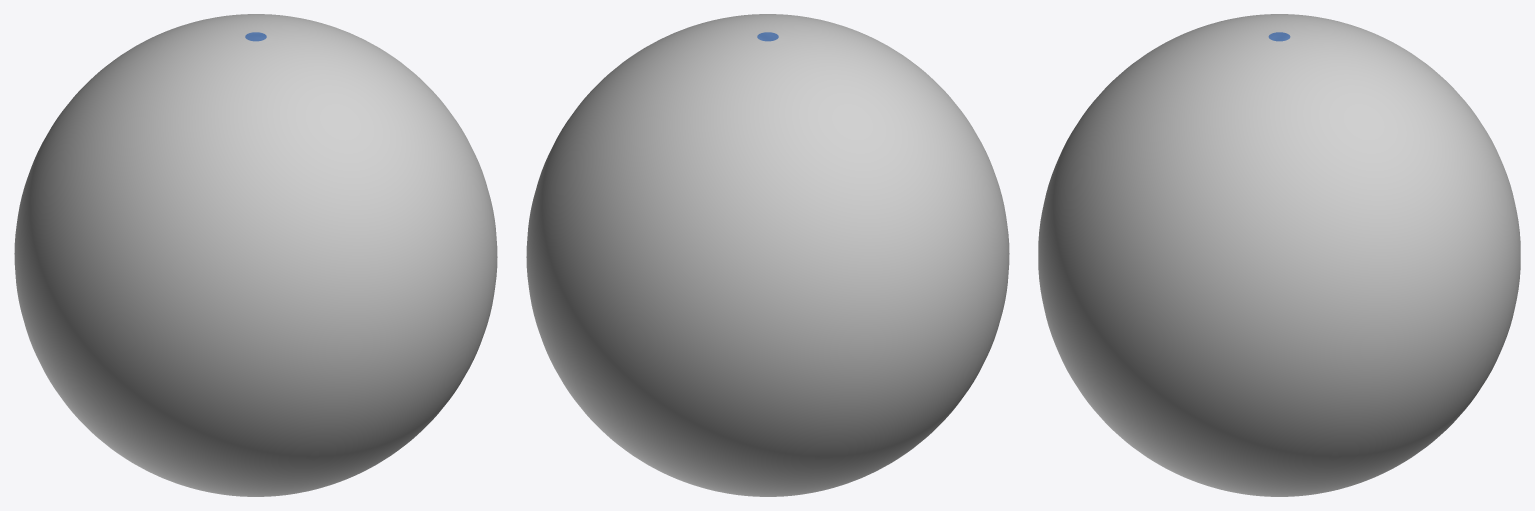
Rendered from skybox.obj.
3 renders of one model, left to right at view 1: azimuth 30°, elevation 25°; view 2: azimuth 150°, elevation 25°; view 3: azimuth 270°, elevation 25°, orthographic.
Visible parts, largest first — view 1: Sphere_Sphere.003; view 2: Sphere_Sphere.003; view 3: Sphere_Sphere.003.
Boxes of the visible parts, x1=… form: Sphere_Sphere.003: x1=14, y1=14, x2=497, y2=496; Sphere_Sphere.003: x1=526, y1=14, x2=1009, y2=496; Sphere_Sphere.003: x1=1038, y1=14, x2=1520, y2=496.
Bounding box in the file's own units: 2 × 2 × 2.
